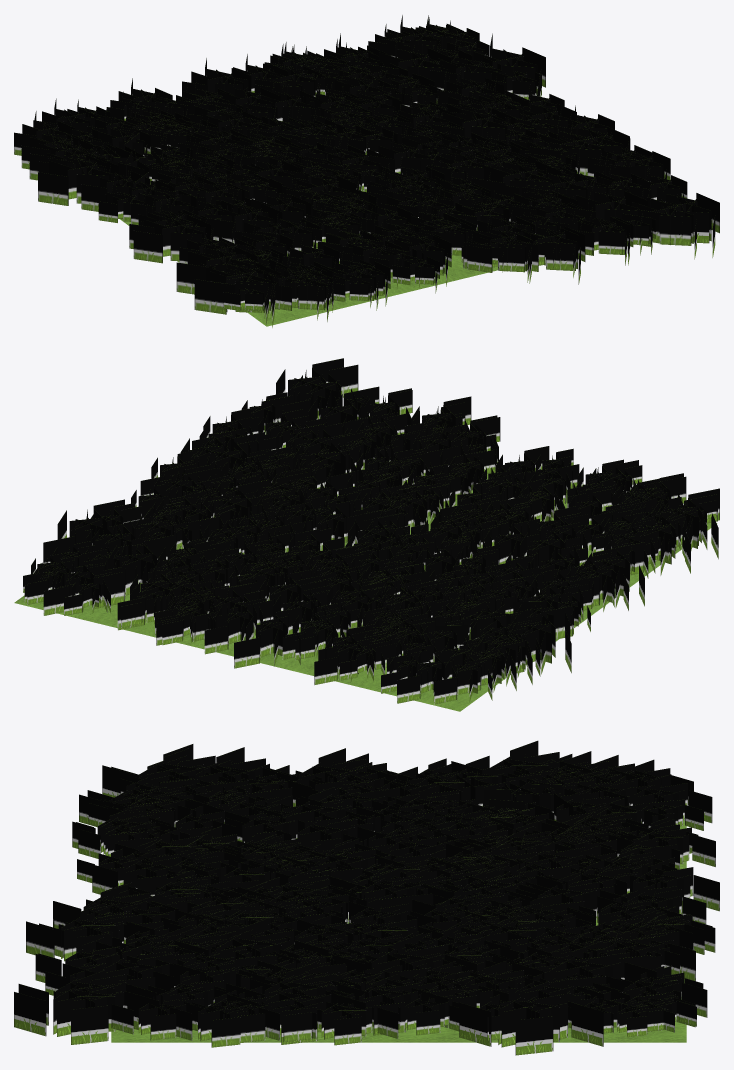
The model's file is Ondergrond met gras.fbx.
3 renders of one model, top to bottom at view 1: azimuth 30°, elevation 25°; view 2: azimuth 150°, elevation 25°; view 3: azimuth 270°, elevation 25°, orthographic. The views are drawn at different scales.
Parts seen in each view (by area): view 1: low grass bundle.108, low grass bundle.685, Ondergrond, low grass bundle.383, low grass bundle.599, low grass bundle.171, low grass bundle.063, low grass bundle.051, low grass bundle.639, low grass bundle.441, low grass bundle.293, low grass bundle.224 (+109 smaller); view 2: Ondergrond, low grass bundle.019, low grass bundle.108, low grass bundle.306, low grass bundle.293, low grass bundle.639, low grass bundle.383, low grass bundle.130, low grass bundle.063, low grass bundle.047, low grass bundle.606, low grass bundle.685 (+101 smaller); view 3: low grass bundle.293, low grass bundle.383, Ondergrond, low grass bundle.385, low grass bundle.171, low grass bundle.019, low grass bundle.206, low grass bundle.441, low grass bundle.306, low grass bundle.016, low grass bundle.606, low grass bundle.224 (+134 smaller).
Part boxes in pixels (x1,y1,x2,y2): low grass bundle.108: (38, 145, 118, 205); low grass bundle.685: (133, 203, 211, 263); Ondergrond: (120, 183, 498, 326); low grass bundle.383: (635, 179, 719, 257); low grass bundle.599: (194, 249, 279, 327); low grass bundle.171: (510, 215, 585, 284); low grass bundle.063: (621, 185, 701, 259); low grass bundle.051: (467, 223, 533, 282); low grass bundle.639: (176, 233, 257, 294); low grass bundle.441: (471, 146, 561, 200); low grass bundle.293: (462, 33, 545, 96); low grass bundle.224: (565, 178, 647, 255); Ondergrond: (14, 432, 717, 711); low grass bundle.019: (93, 535, 175, 608); low grass bundle.108: (494, 606, 572, 675); low grass bundle.306: (234, 607, 301, 668); low grass bundle.293: (43, 499, 124, 563); low grass bundle.639: (613, 507, 691, 575); low grass bundle.383: (261, 358, 343, 431); low grass bundle.130: (435, 601, 546, 649); low grass bundle.063: (280, 364, 358, 421); low grass bundle.047: (397, 648, 458, 703); low grass bundle.606: (188, 479, 269, 542); low grass bundle.685: (570, 542, 646, 608); low grass bundle.293: (459, 981, 603, 1055); low grass bundle.383: (14, 970, 159, 1044); Ondergrond: (111, 820, 686, 1042); low grass bundle.385: (167, 990, 279, 1047); low grass bundle.171: (26, 902, 154, 961); low grass bundle.019: (512, 941, 656, 988); low grass bundle.206: (312, 993, 398, 1045); low grass bundle.441: (174, 917, 328, 969); low grass bundle.306: (600, 857, 719, 911); low grass bundle.016: (111, 989, 210, 1040); low grass bundle.606: (332, 933, 476, 981); low grass bundle.224: (62, 942, 204, 989).
Bounding box in the file's own units: 1731 × 108 × 1841.
Materials: 2 (2 with a texture image).
